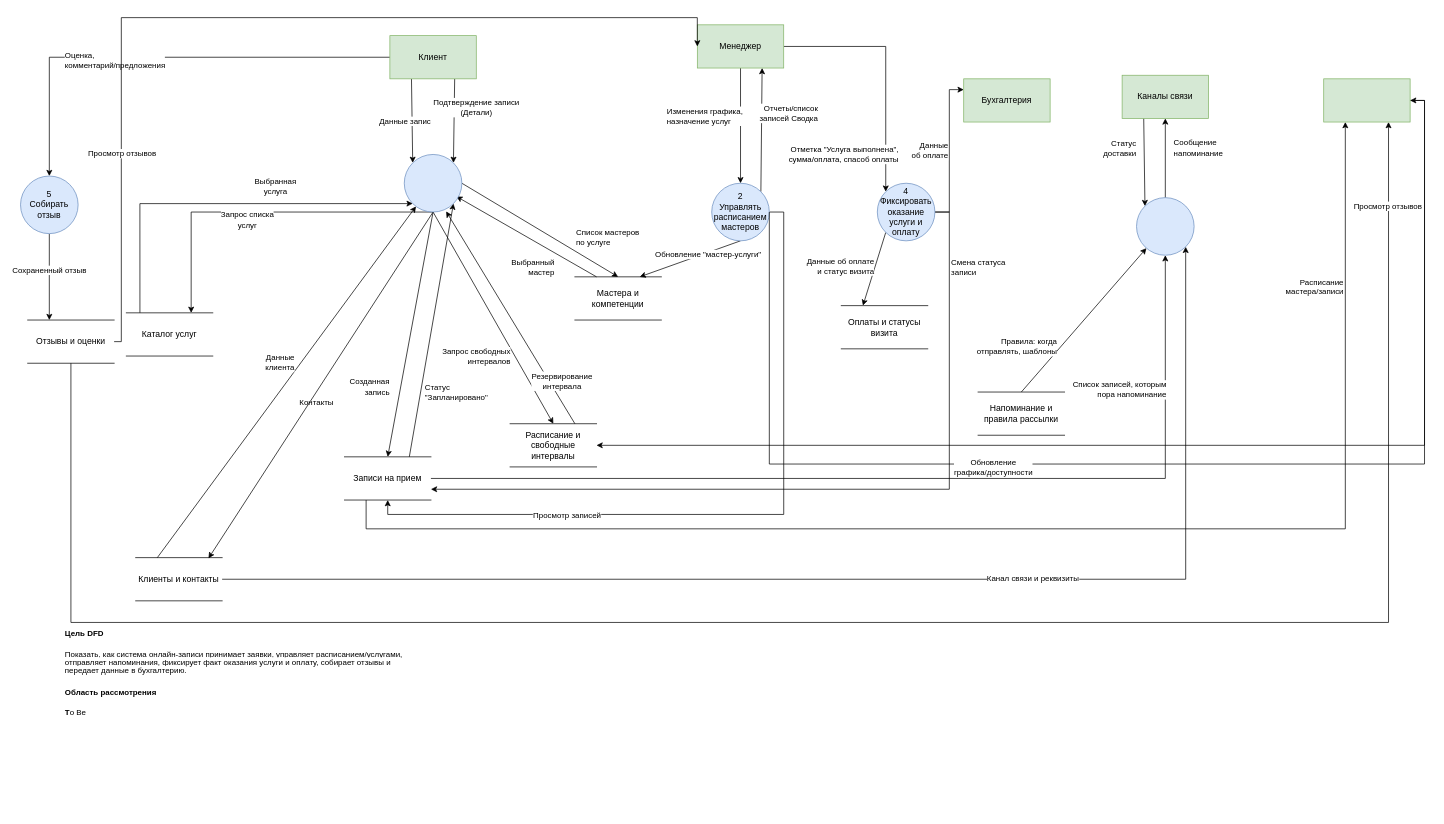
Some shapes in this 1444 by 824 pixel diagram are drawn without their labels. The centre of each missing label's shape, as x and y in pixels:
"1 Принять запись" goes at point 433,183.
"3 Отправлять напоминания" goes at point 1165,226.
"Мастер" goes at point 1366,100.
